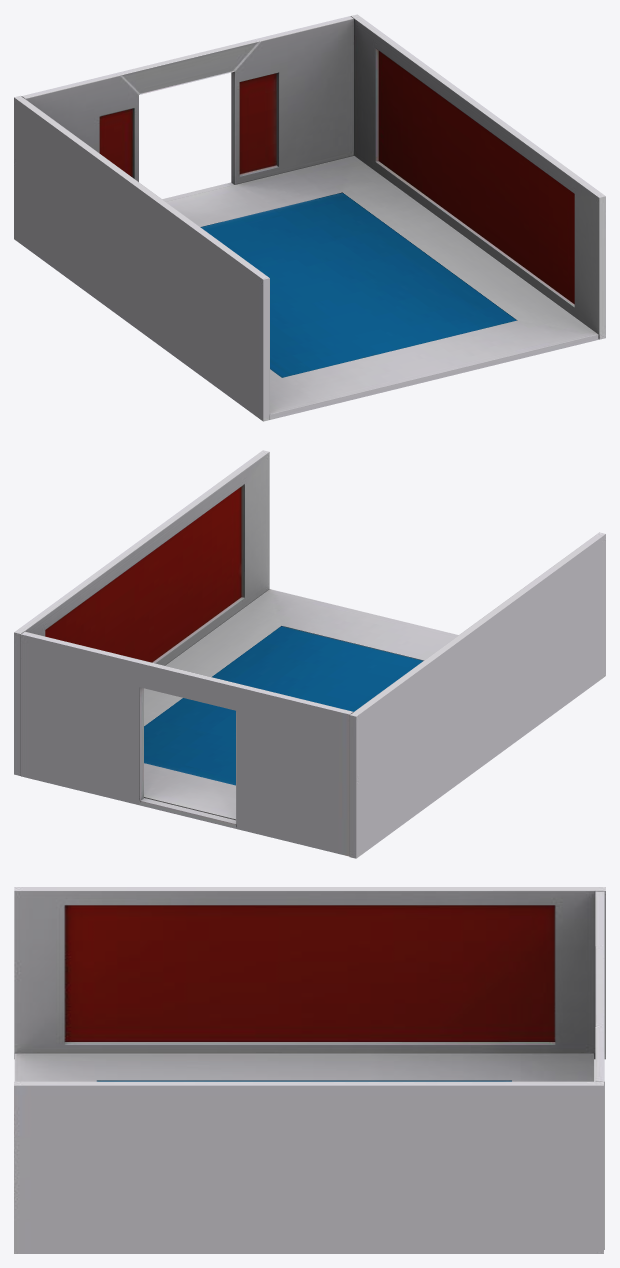
Rendered from ATO1.fbx.
3 views of the same model, one above another, from view 1: azimuth 30°, elevation 25°; view 2: azimuth 150°, elevation 25°; view 3: azimuth 270°, elevation 25° (orthographic). The views are drawn at different scales.
Parts seen in each view (by area): view 1: PAREDE_TRAS1; view 2: PAREDE_TRAS1; view 3: PAREDE_TRAS1.
Part boxes in pixels (left/top/right/bottom): PAREDE_TRAS1: left=14, top=14, right=605, bottom=421; PAREDE_TRAS1: left=14, top=450, right=605, bottom=858; PAREDE_TRAS1: left=14, top=887, right=605, bottom=1253.
Size of the model in its own units: 19.43 by 7.7 by 24.49.
Materials: 1 (1 with a texture image).
